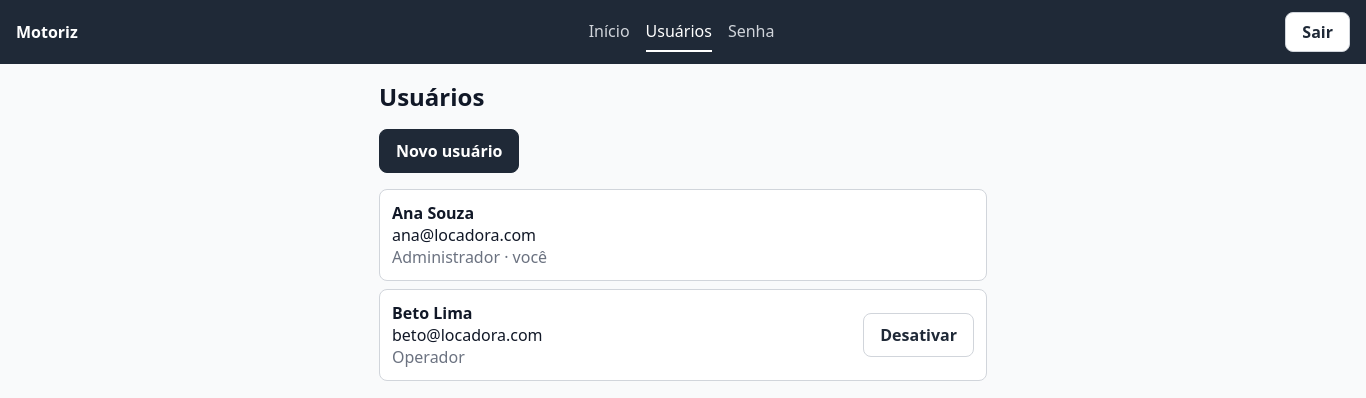
Test: cache entre sessões › sair limpa o cache
Expected: the text "beto@locadora.com" is shown, [392,324,543,346]
Step 1. Click the button "Sair" → (1318, 32), box [1285,12,1350,52]
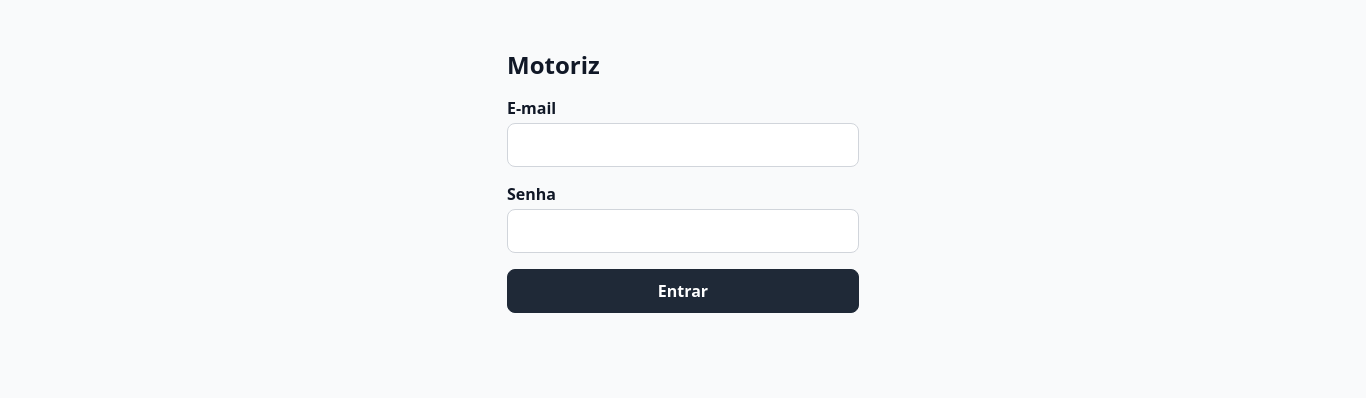
Result: the button "Entrar" is shown at [507,269,859,313]
